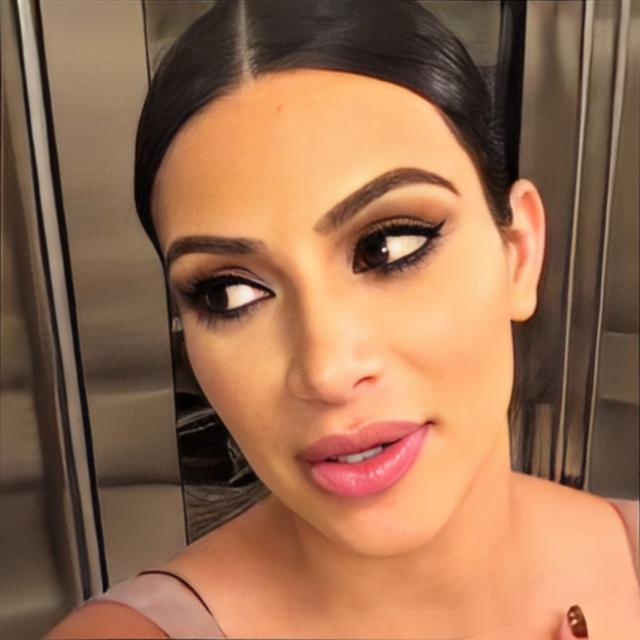neutral: (162, 66, 508, 556)
